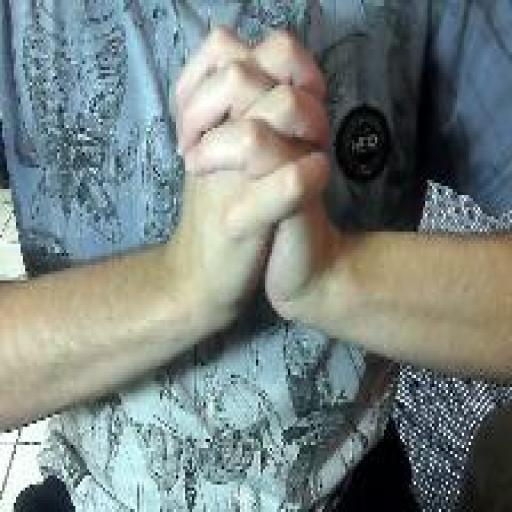Mi -snake-: (172, 18, 332, 329)
